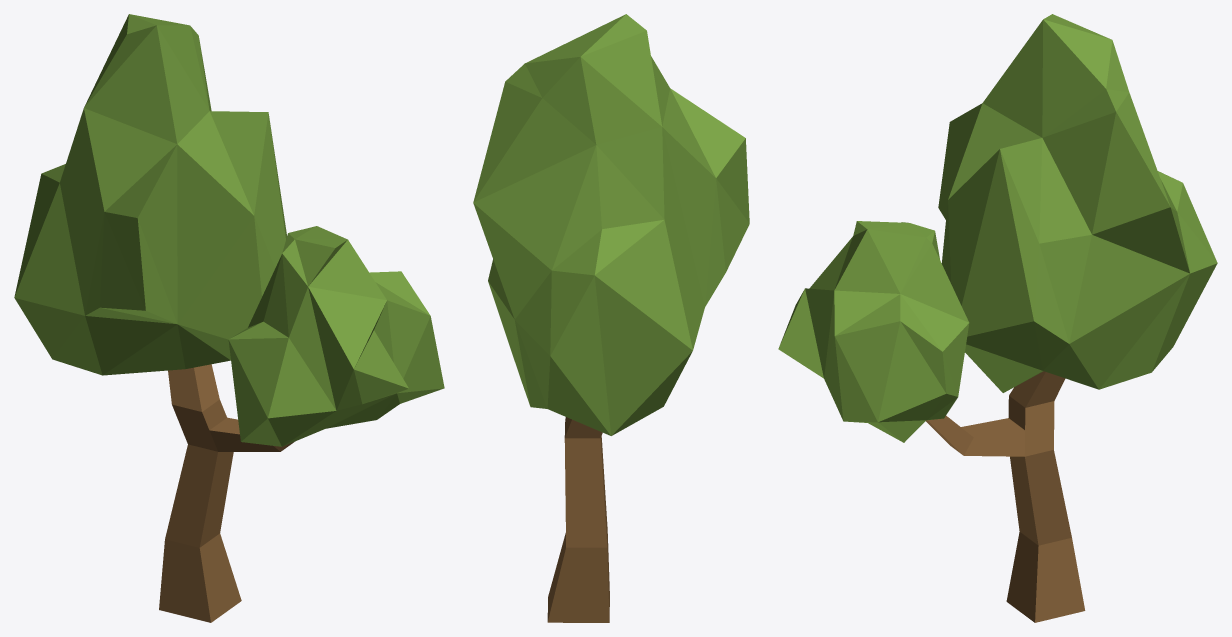
Rendered from OakTree2.fbx.
The picture shows the model from 3 angles, left to right: view 1: azimuth 30°, elevation 25°; view 2: azimuth 150°, elevation 25°; view 3: azimuth 270°, elevation 25°; orthographic projection. The views are drawn at different scales.
Visible parts, largest first — view 1: Cube.253, Cube.254, Cube.252; view 2: Cube.253, Cube.252; view 3: Cube.253, Cube.254, Cube.252.
Boxes of the visible parts, x1,y1,x2,y2 form: Cube.253: [14, 14, 286, 375]; Cube.254: [228, 226, 444, 446]; Cube.252: [159, 364, 293, 622]; Cube.253: [473, 14, 749, 435]; Cube.252: [547, 417, 609, 622]; Cube.253: [938, 14, 1217, 392]; Cube.254: [778, 221, 969, 442]; Cube.252: [926, 371, 1085, 622].
Size of the model in its own units: 349 by 660 by 465.
